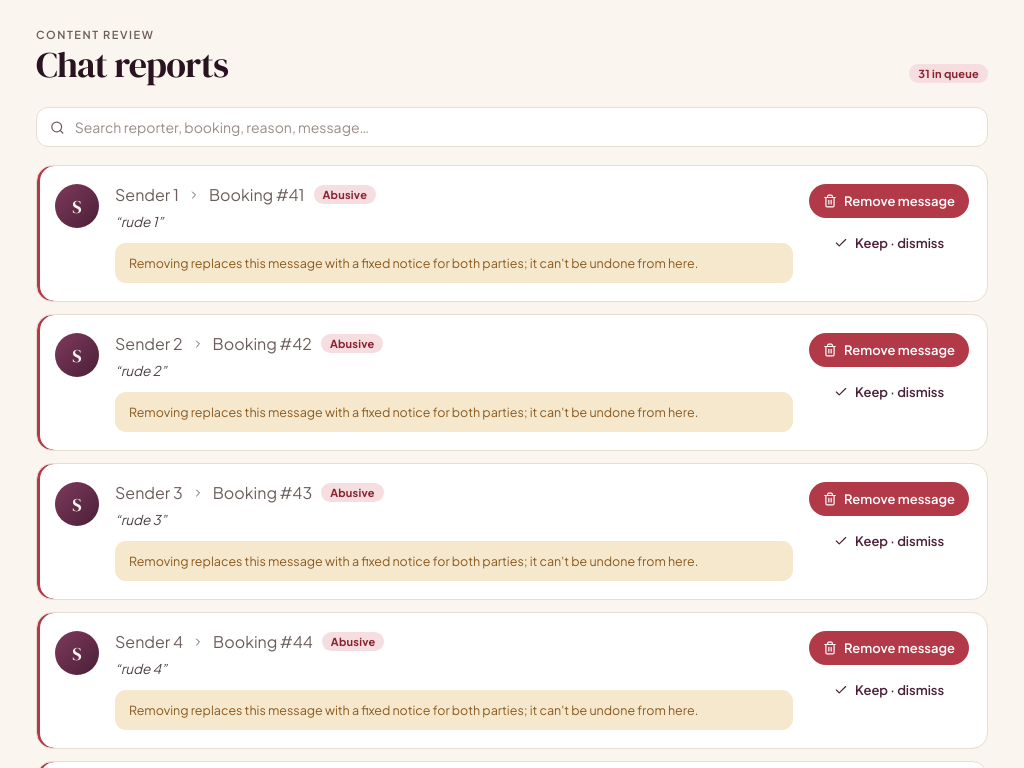
Test: <ChatReports> - server paging › keeping a message dismisses the report and re-reads the page
Click the button "Keep · dismiss" in the row of "“rude 1”": point(889, 243) [809, 226, 969, 260]
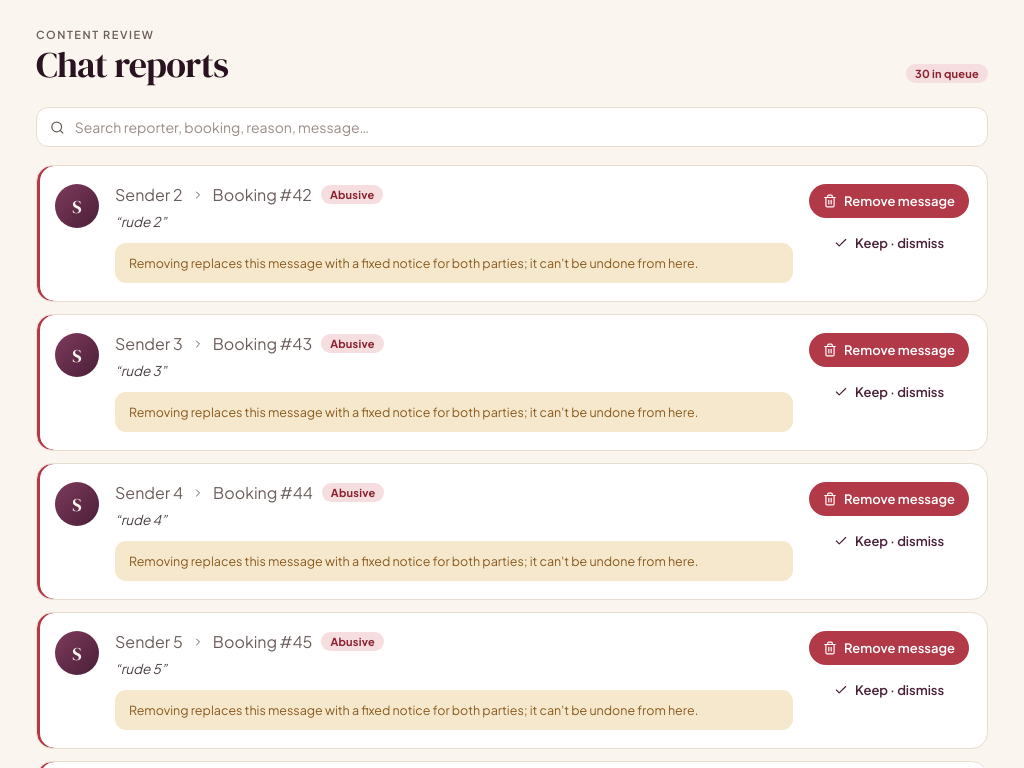
expect the text "30 in queue" is shown: met, box [906, 64, 988, 83]
